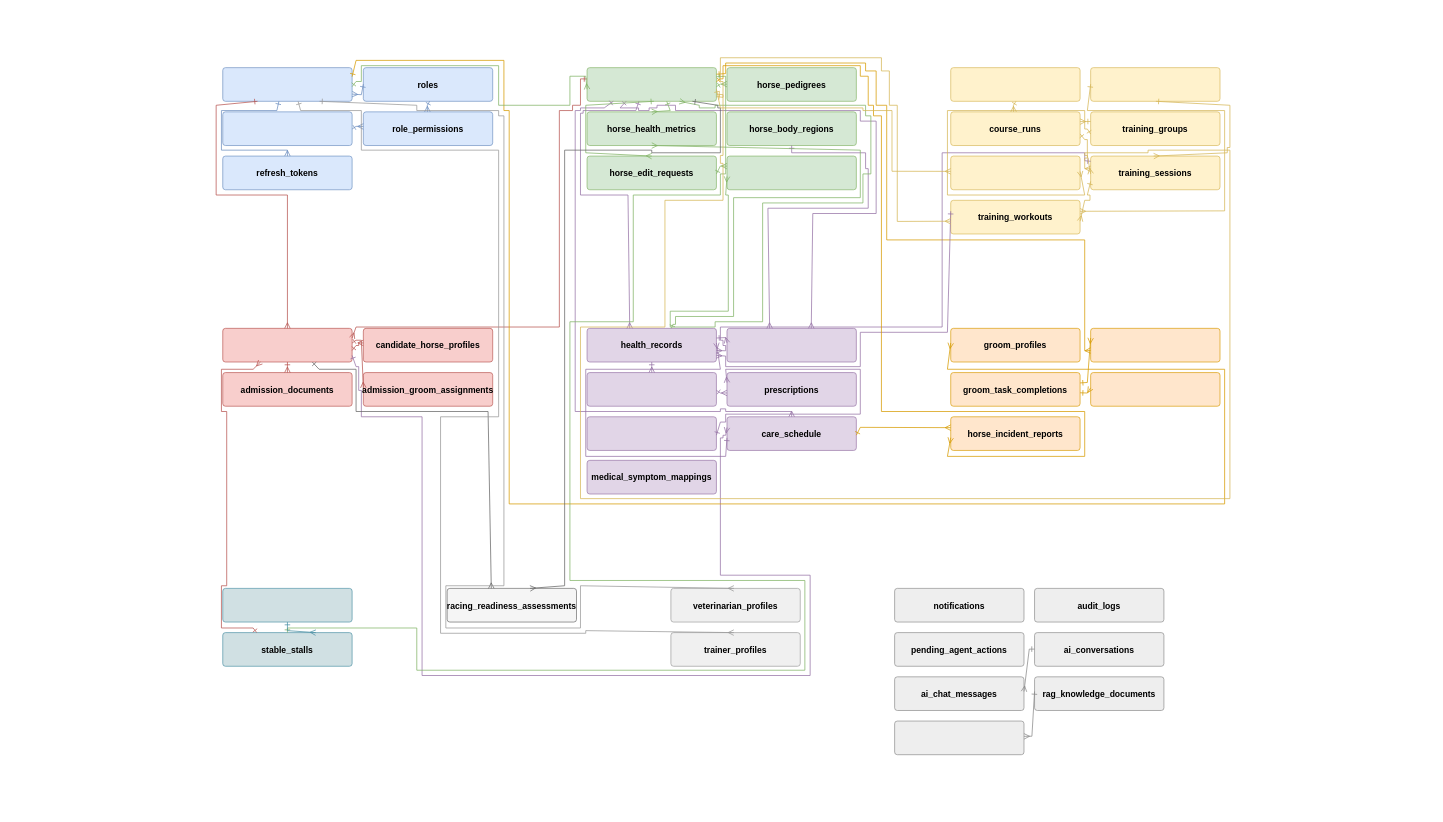
This 1443x822 diagram has some shape labels left out. The centre of each missing label's shape, as x and y in pixels:
admission_applications: the point at 287,345
areas: the point at 287,605
courses: the point at 1015,84
exercises: the point at 1155,84
groom_daily_tasks: the point at 1155,345
groom_task_completion_photos: the point at 1155,389
health_conditions: the point at 791,345
horse_edit_request_documents: the point at 791,172
horses: the point at 651,84
permissions: the point at 287,128
preventive_protocols: the point at 651,433
rag_knowledge_embeddings: the point at 959,737
training_group_members: the point at 1015,172
treatment_plans: the point at 651,389
users: the point at 287,84
